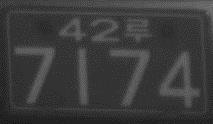1: (64, 47, 101, 105)
2: (89, 17, 121, 42)
4: (159, 50, 201, 108), (57, 17, 87, 41)
7: (12, 44, 56, 104), (108, 47, 150, 108)
루: (123, 17, 152, 42)
